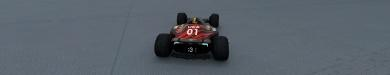Car: (153, 12, 229, 60)
grass: (0, 0, 389, 74)
